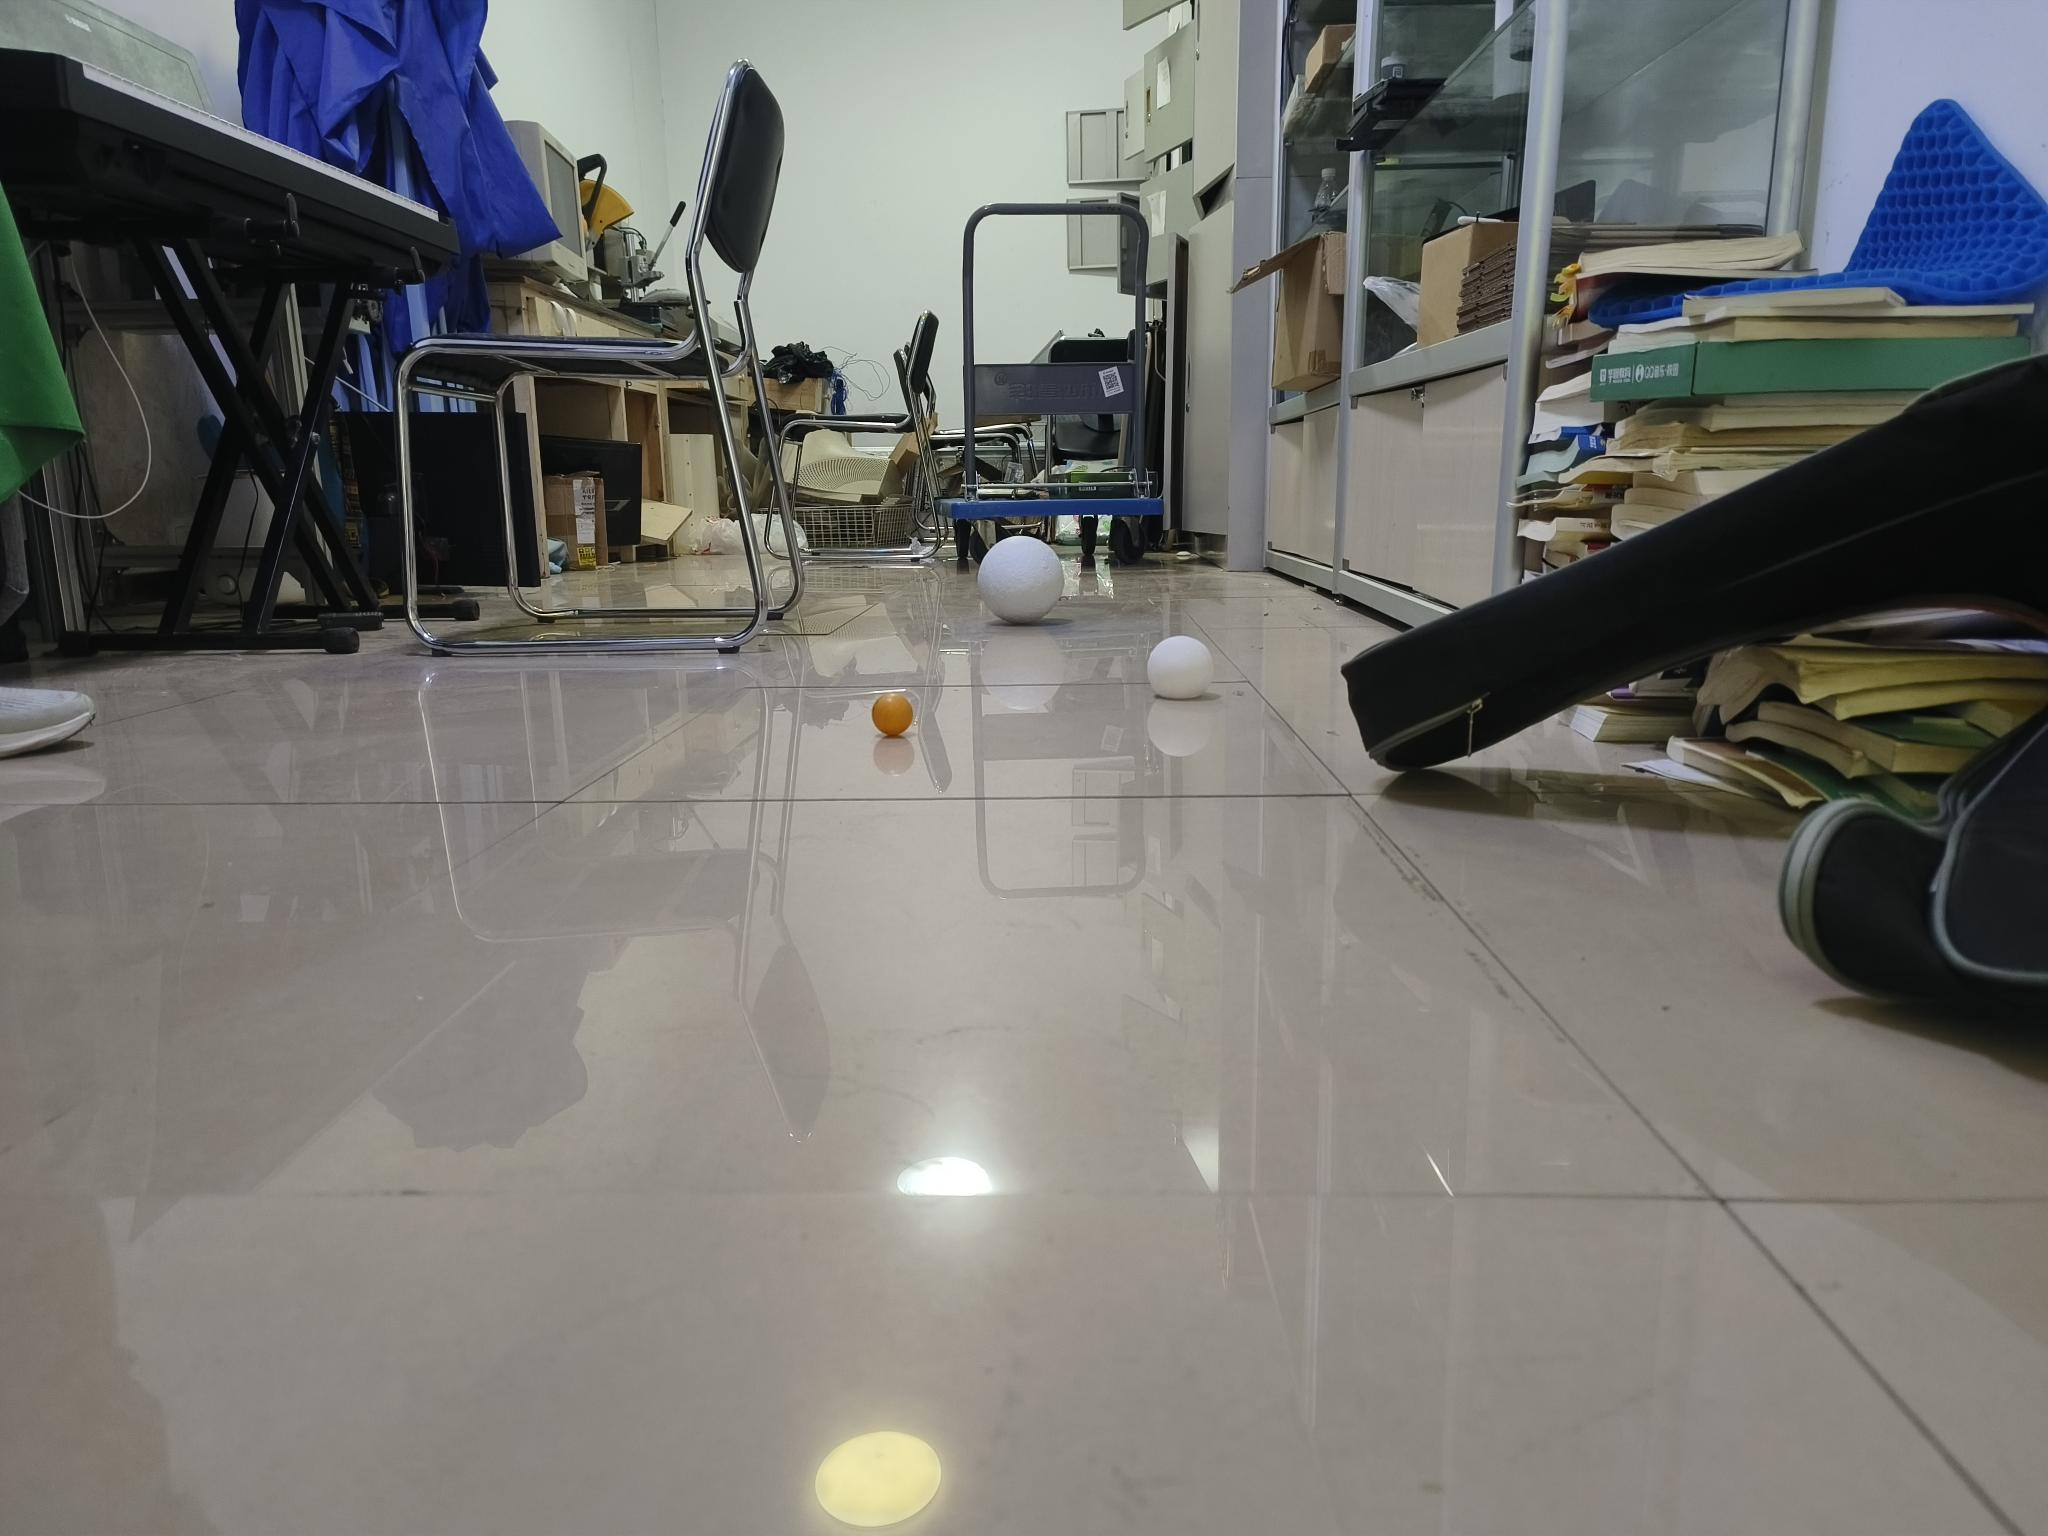ball: (871, 694, 913, 736)
